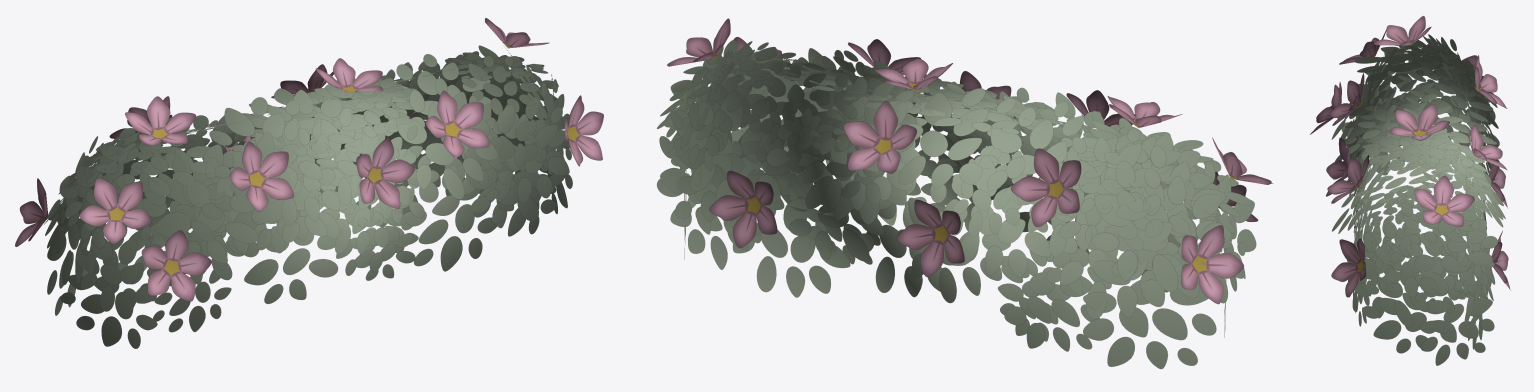
File: garden_shrub_sage.glb
3 renders of one model, left to right at view 1: azimuth 30°, elevation 25°; view 2: azimuth 150°, elevation 25°; view 3: azimuth 270°, elevation 25°, orthographic. The views are drawn at different scales.
Parts seen in each view (by area): view 1: Bush_Small_Flowers; view 2: Bush_Small_Flowers; view 3: Bush_Small_Flowers.
Part boxes in pixels (x1=…): Bush_Small_Flowers: x1=15, y1=18, x2=603, y2=348; Bush_Small_Flowers: x1=657, y1=18, x2=1272, y2=368; Bush_Small_Flowers: x1=1310, y1=16, x2=1510, y2=365.
Bounding box in the file's own units: 1.2 × 0.509 × 0.4747.
Materials: 2 (2 with a texture image).
